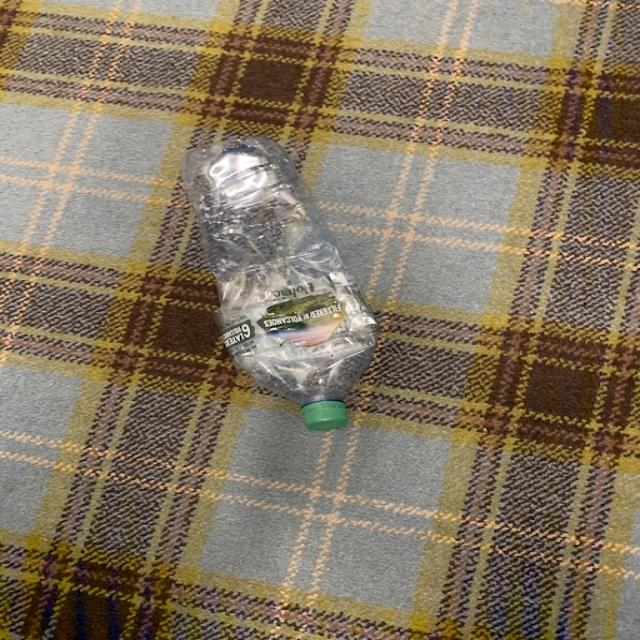Waste: (182, 137, 378, 432)
